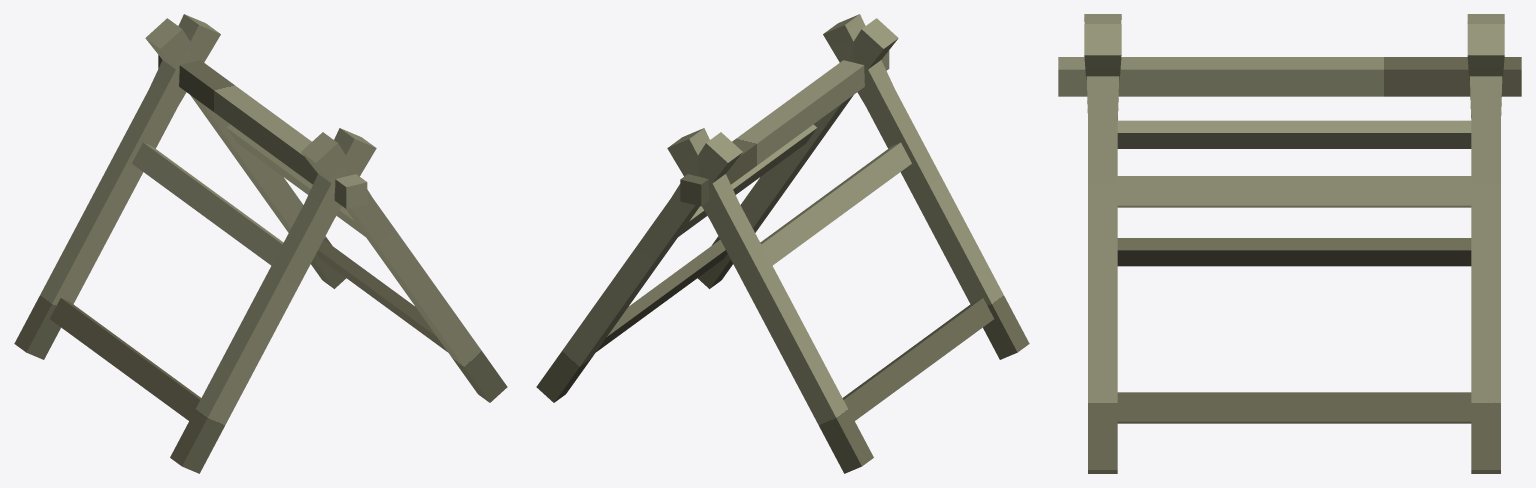
File: shelter-framed-tent.glb
3 renders of one model, left to right at view 1: azimuth 30°, elevation 25°; view 2: azimuth 150°, elevation 25°; view 3: azimuth 270°, elevation 25°, orthographic. The views are drawn at different scales.
Visible parts, largest first — view 1: shelter-framed-tent runtime mesh; view 2: shelter-framed-tent runtime mesh; view 3: shelter-framed-tent runtime mesh.
Boxes of the visible parts, x1,y1,x2,y2 form: shelter-framed-tent runtime mesh: [14, 14, 507, 473]; shelter-framed-tent runtime mesh: [536, 14, 1029, 473]; shelter-framed-tent runtime mesh: [1058, 14, 1521, 473].
Bounding box in the file's own units: 2.17 × 1.9 × 2.17.
Materials: 1 (1 with a texture image).
